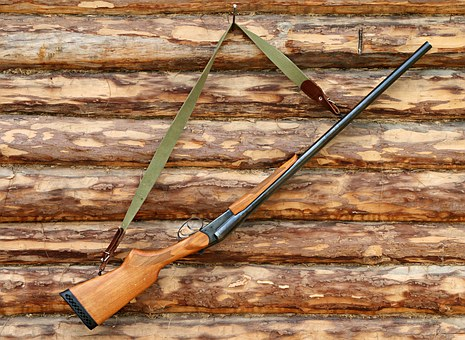shotgun: (47, 39, 433, 340)
